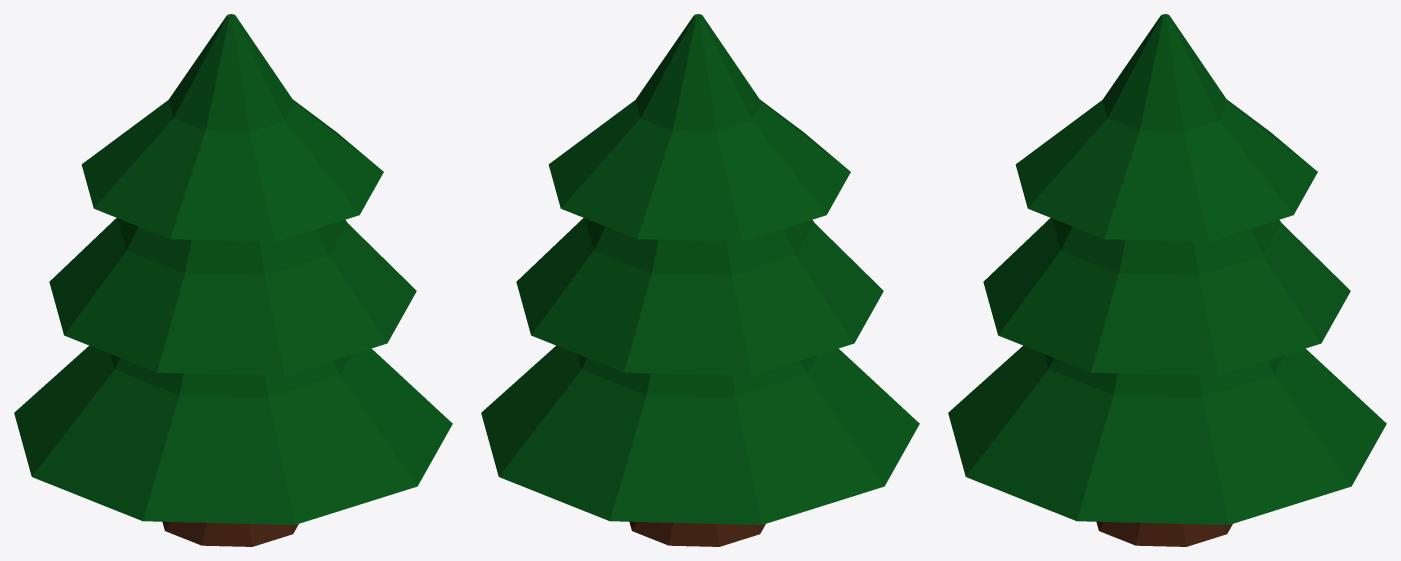
Rendered from lowPolyTree (1).fbx.
The picture shows the model from 3 angles, left to right: view 1: azimuth 30°, elevation 25°; view 2: azimuth 150°, elevation 25°; view 3: azimuth 270°, elevation 25°; orthographic projection.
Visible parts, largest first — view 1: Tree1; view 2: Tree1; view 3: Tree1.
Part boxes in pixels (left/top/right/bottom): Tree1: left=14, top=14, right=452, bottom=546; Tree1: left=481, top=14, right=919, bottom=546; Tree1: left=948, top=14, right=1386, bottom=546.
Bounding box in the file's own units: 171 × 216 × 172.
